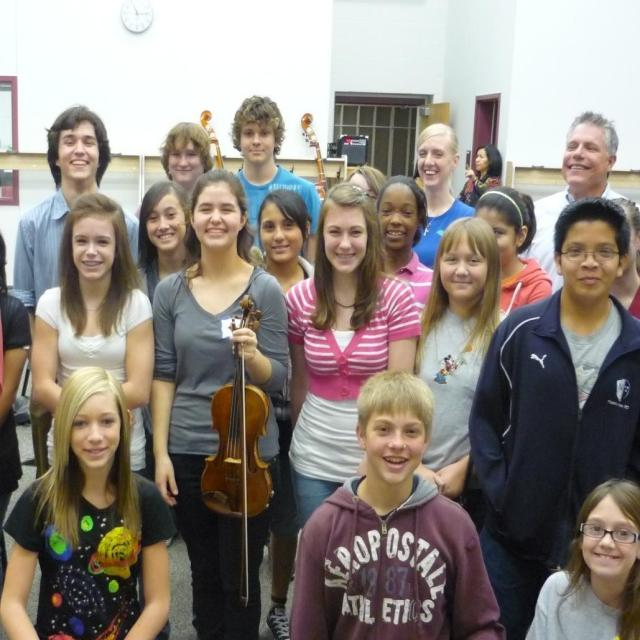violin: (197, 296, 272, 519)
